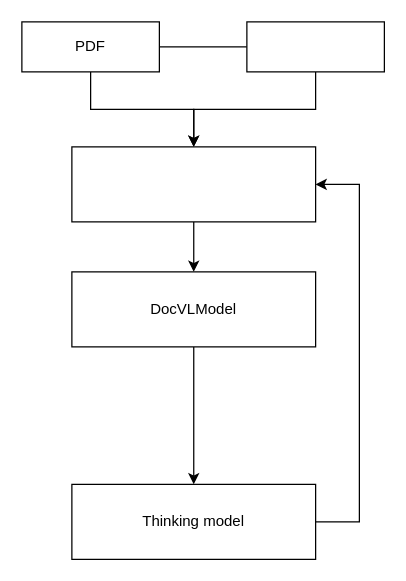
Some shapes in this 406 by 581 pixel diagram are drawn without their labels. Here are the shapes that lost their labels. From the top down, the box of each, then its label:
(246, 21, 384, 72): Task
(71, 146, 316, 222): Orchestral model
